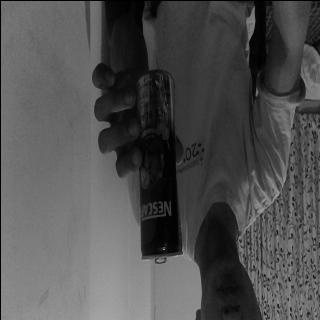alumunium_can: (132, 66, 180, 264)
